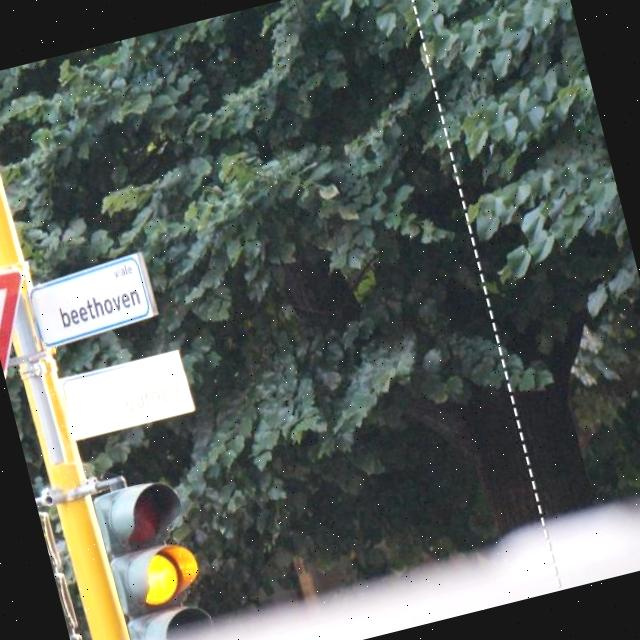yellow_light: (87, 476, 219, 640)
